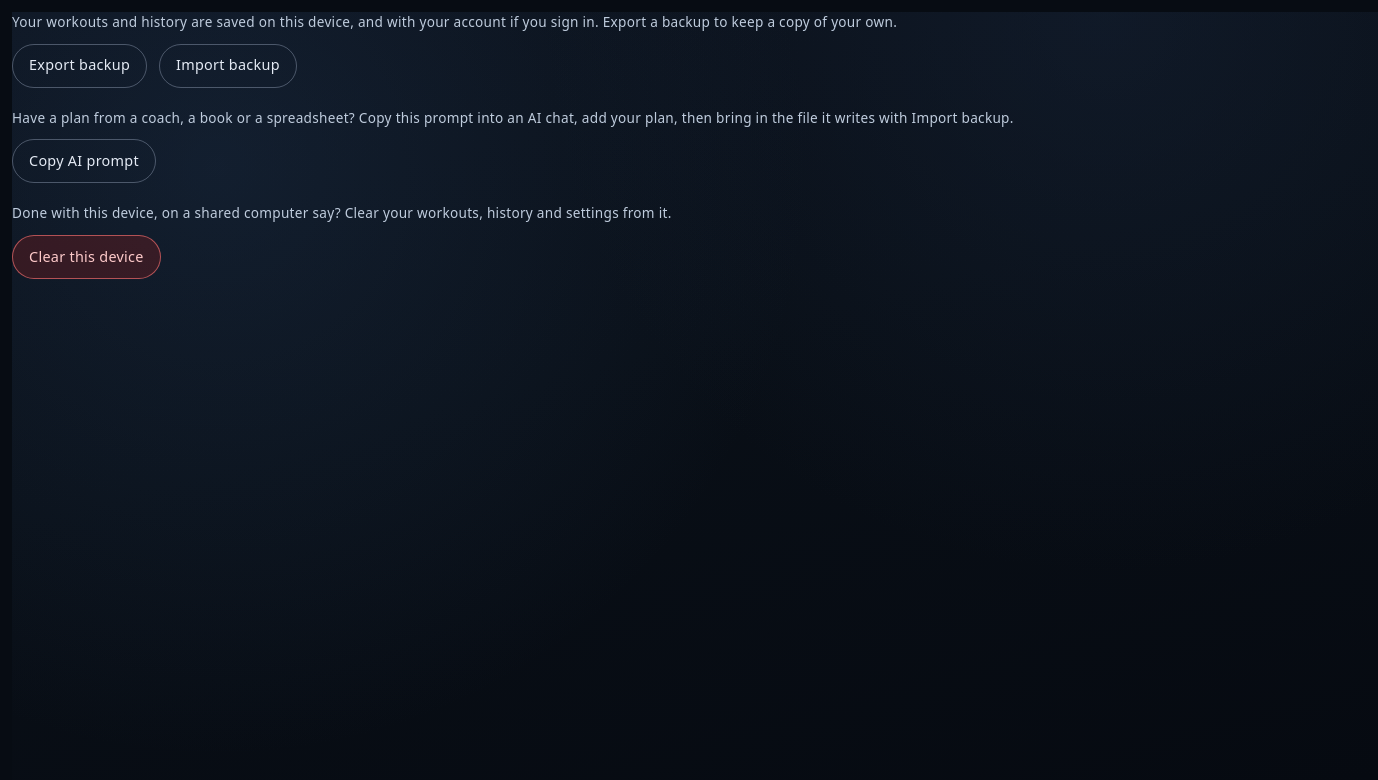
Test case: YourDataComponent › backup › copies the prompt for bringing in a plan with AI, and says so
Click the button "Copy AI prompt" at (84, 161), box x1=12 y1=139 x2=156 y2=183
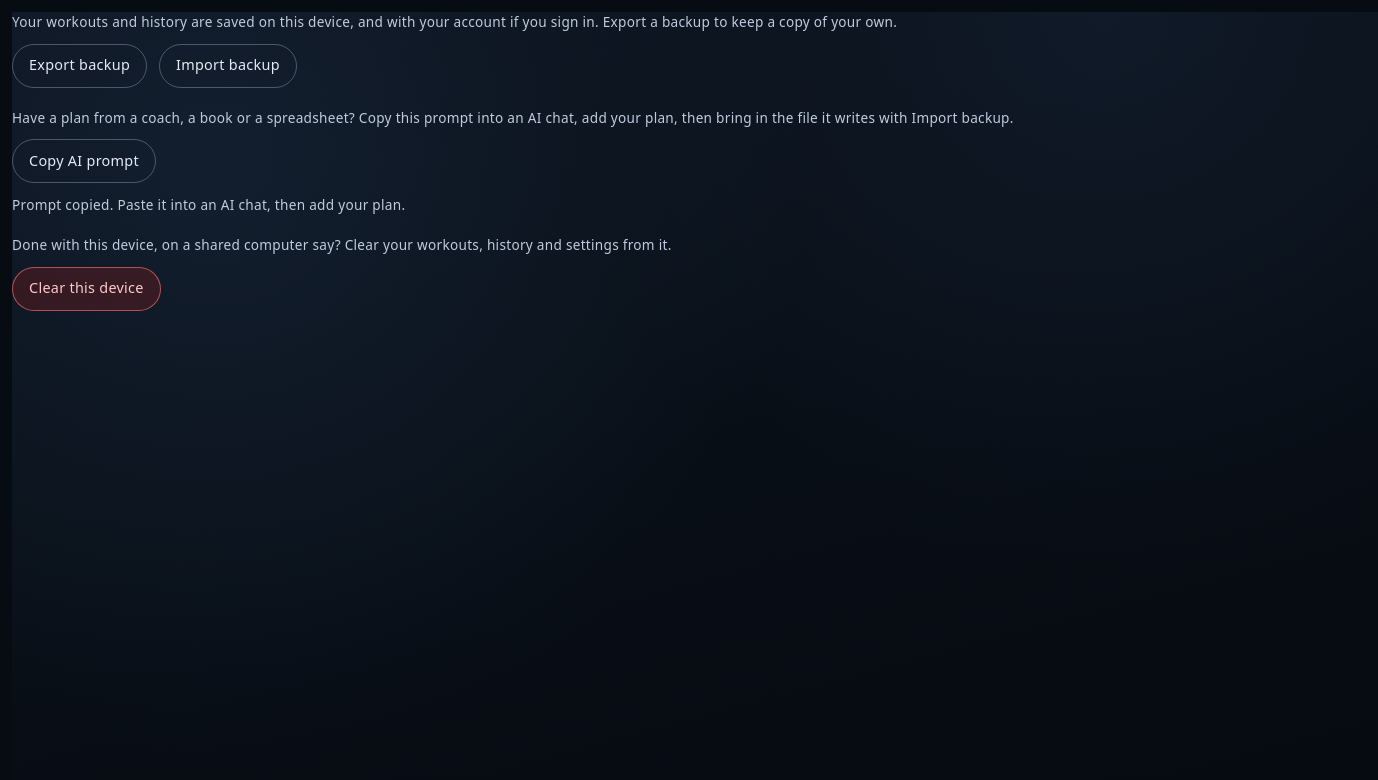
Check: the message "Prompt copied. Paste it into an AI chat, then add your plan." is shown, box x1=12 y1=195 x2=405 y2=214
